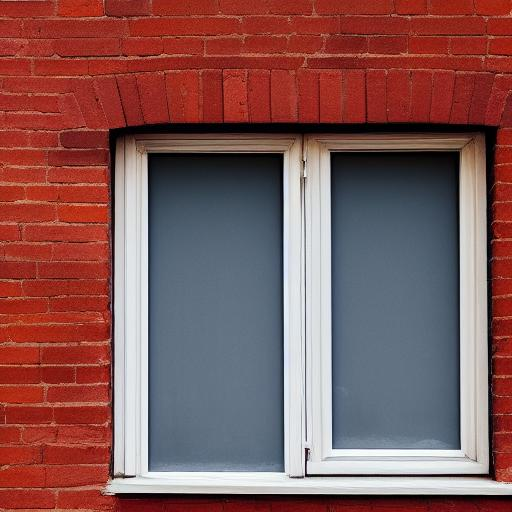Window: (75, 66, 512, 501)
